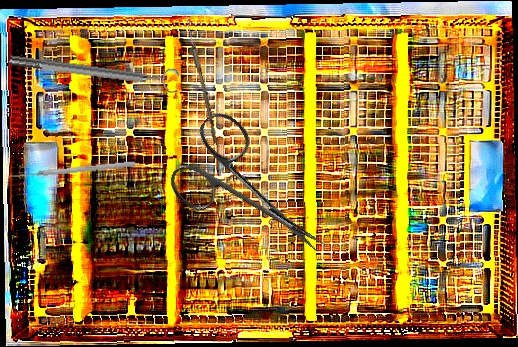Fixation Ring: (7, 45, 181, 96)
Iris Scissors: (157, 105, 353, 286)
Pusher: (8, 159, 136, 181)
Surgical Spoon: (181, 12, 221, 144)
